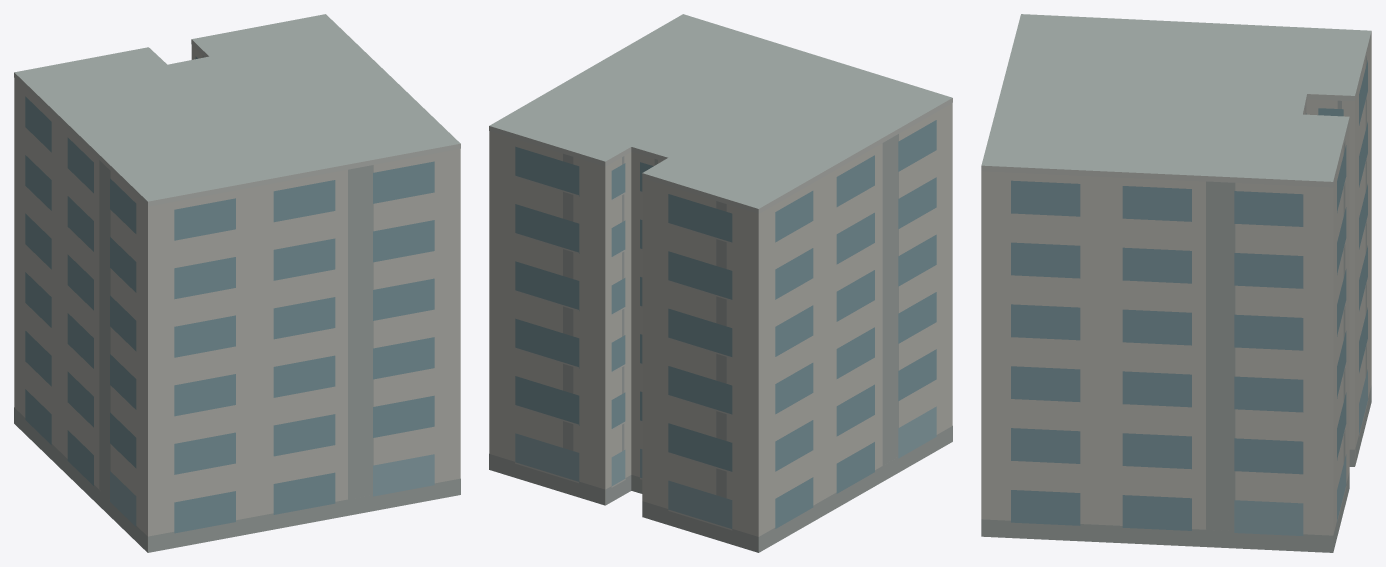
Rendered from survey-upis-32654232.glb.
The picture shows the model from 3 angles, left to right: view 1: azimuth 30°, elevation 25°; view 2: azimuth 150°, elevation 25°; view 3: azimuth 270°, elevation 25°; orthographic projection. The views are drawn at different scales.
Visible parts, largest first — view 1: survey-upis-32654232.tmp; view 2: survey-upis-32654232.tmp; view 3: survey-upis-32654232.tmp.
Boxes of the visible parts, x1,y1,x2,y2 form: survey-upis-32654232.tmp: (14, 14, 460, 552); survey-upis-32654232.tmp: (489, 14, 952, 552); survey-upis-32654232.tmp: (981, 14, 1371, 552).
Size of the model in its own units: 16.12 by 16.6 by 15.84.
